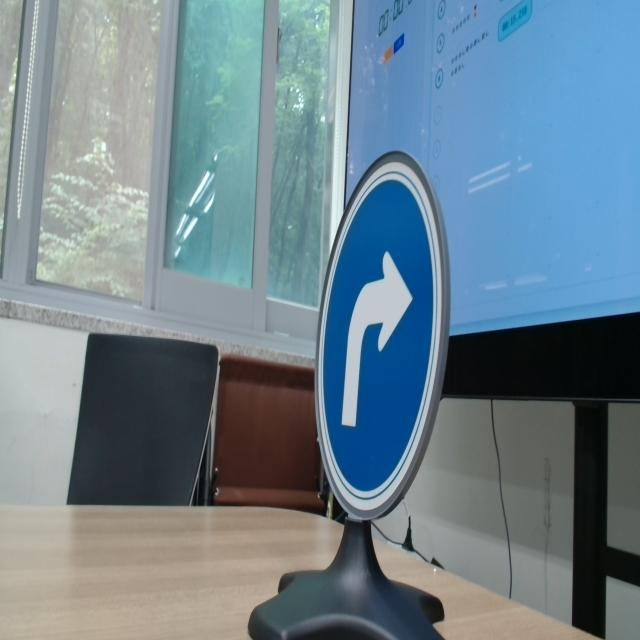right_dierection: (312, 146, 452, 521)
